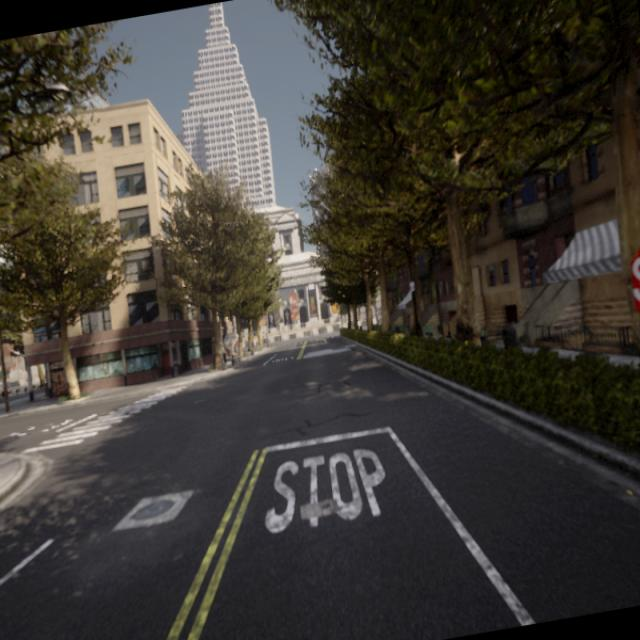stop sign: (628, 239, 639, 316)
